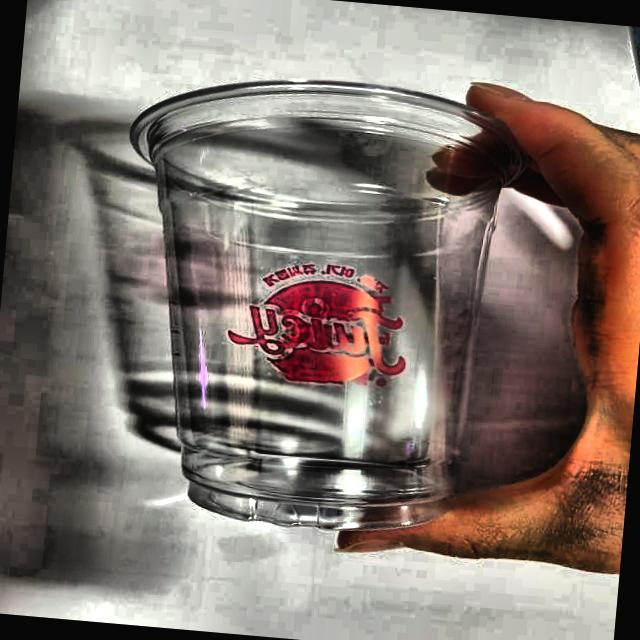plastic cup: (90, 60, 537, 551)
